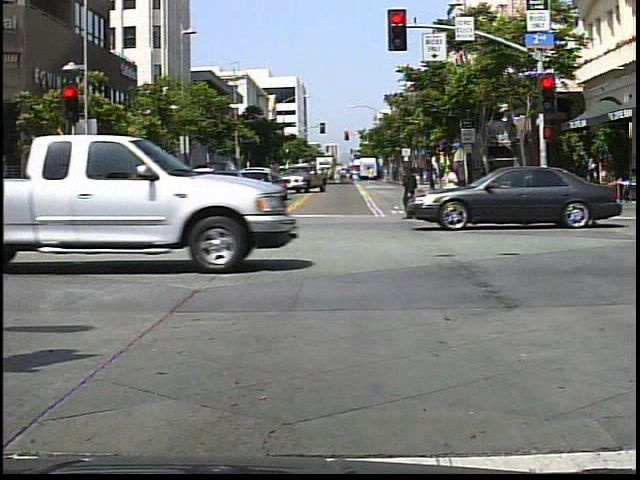person: (440, 159, 472, 223), (156, 166, 189, 225), (397, 162, 420, 220)
